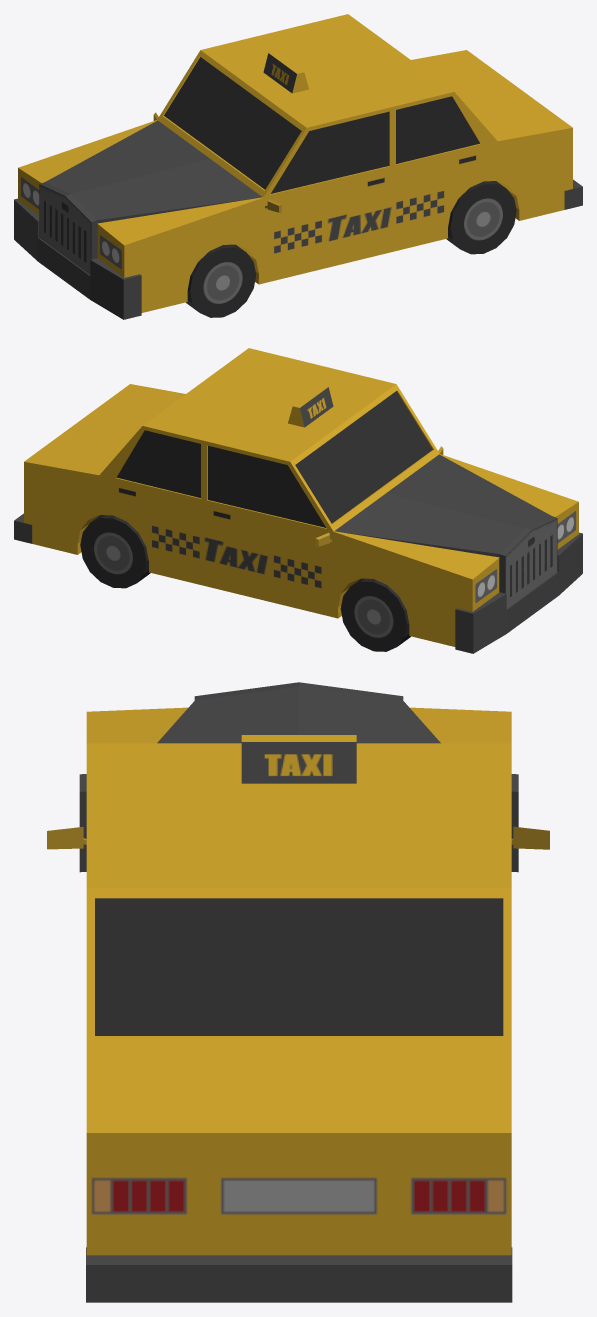
Rendered from taxi.glb.
3 views of the same model, one above another, from view 1: azimuth 30°, elevation 25°; view 2: azimuth 150°, elevation 25°; view 3: azimuth 270°, elevation 25° (orthographic). The views are drawn at different scales.
Visible parts, largest first — view 1: CarBody, Wheel_FL, Wheel_RL; view 2: CarBody, Wheel_FR, Wheel_RR; view 3: CarBody.
Boxes of the visible parts, left/top/right/bottom form: CarBody: left=14, top=14, right=582, bottom=319; Wheel_FL: left=186, top=244, right=256, bottom=317; Wheel_RL: left=446, top=181, right=516, bottom=254; CarBody: left=14, top=348, right=582, bottom=653; Wheel_FR: left=340, top=578, right=410, bottom=651; Wheel_RR: left=80, top=515, right=150, bottom=588; CarBody: left=47, top=682, right=549, bottom=1302.
Size of the model in its own units: 6.32 by 2.43 by 2.96.
Materials: 1 (1 with a texture image).
